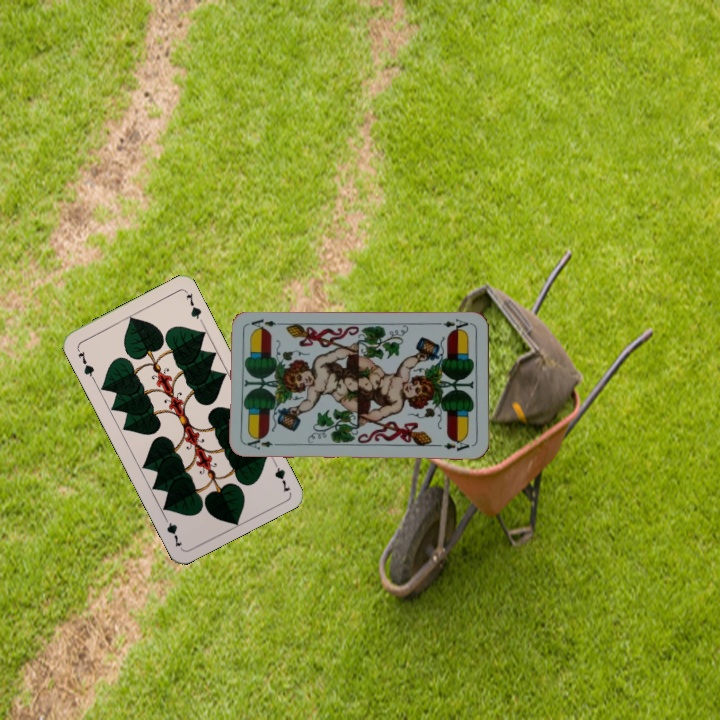EA: (432, 315, 472, 334), (244, 436, 284, 452)
G7: (268, 455, 293, 495), (73, 344, 97, 382)
